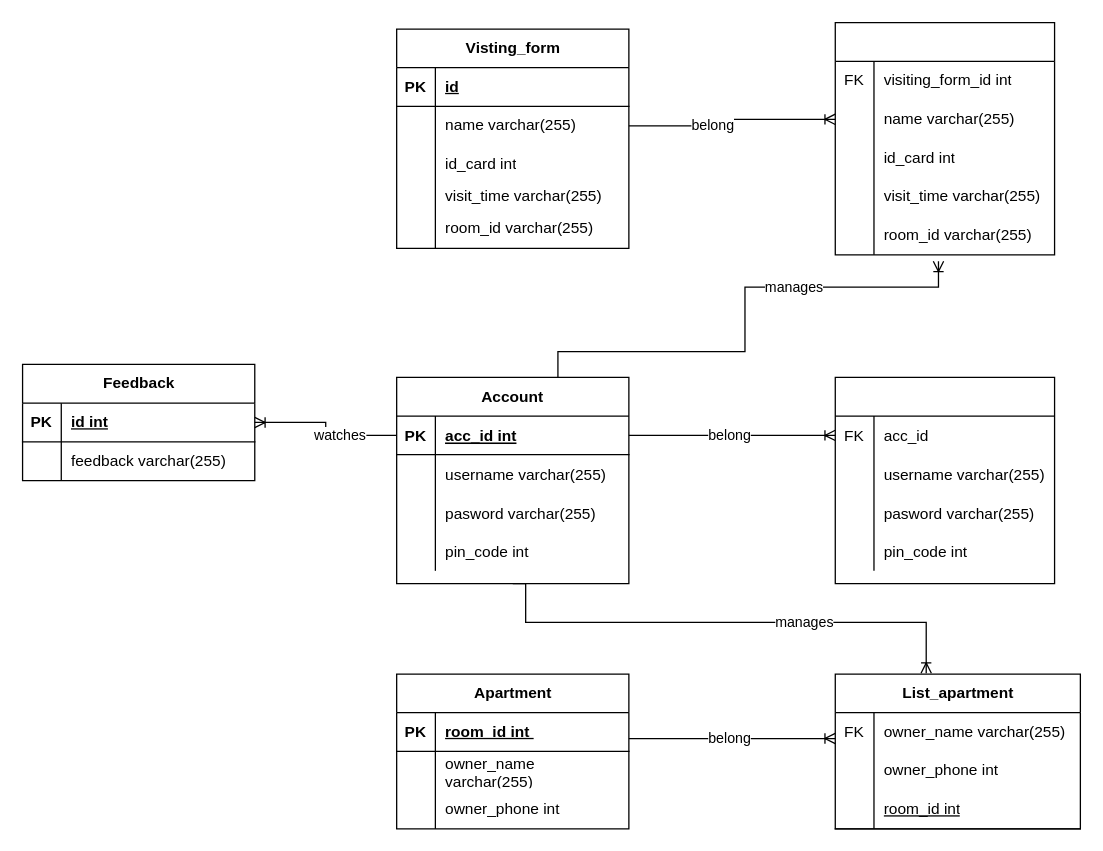
The diagram is 1103 pixels wide and 851 high, and some of its shapes have lost their labels. The shapes that lost their labels are listed below. From the top down, each one's box as (x1, y1, x2, y2) in pixels, then its label:
(834, 21, 1055, 255): List_visiting_form
(834, 376, 1055, 584): List_account
